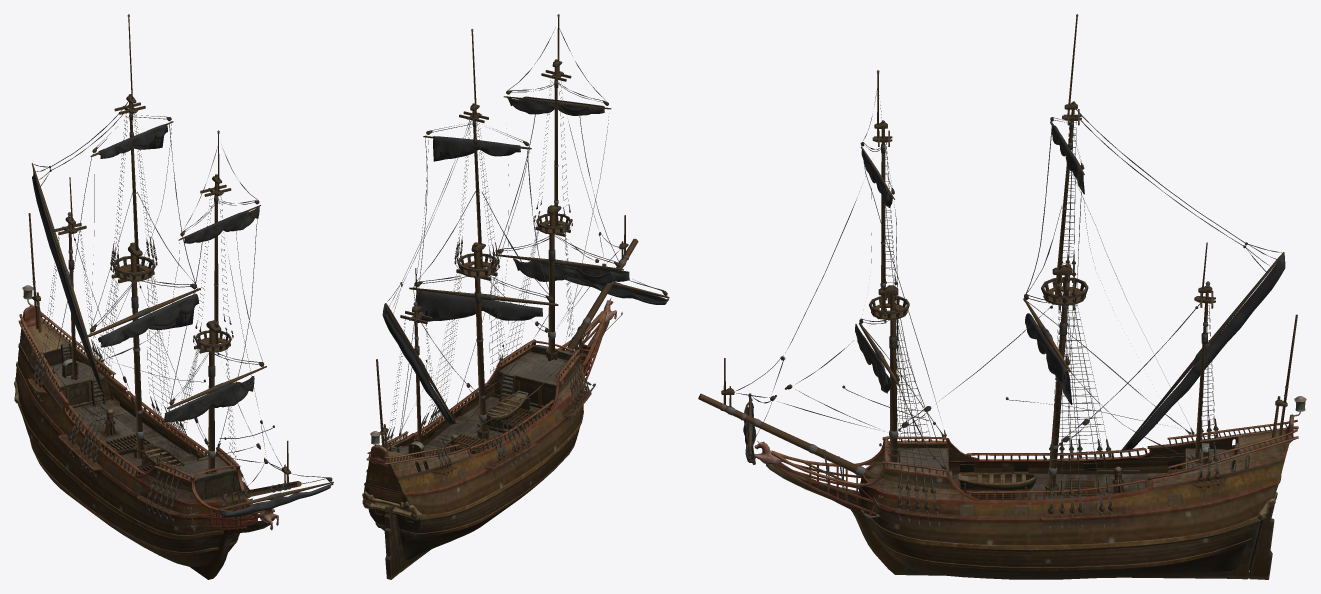
Rendered from ron_burgundy.glb.
3 renders of one model, left to right at view 1: azimuth 30°, elevation 25°; view 2: azimuth 150°, elevation 25°; view 3: azimuth 270°, elevation 25°, orthographic. The views are drawn at different scales.
Visible parts, largest first — view 1: DK_RonBurgundy_Hull, DK_RonBurgundy_Rigging, RonBurgundy_Sails_Docked, DK_RonBurgundy_Rigging_B; view 2: DK_RonBurgundy_Hull, DK_RonBurgundy_Rigging, RonBurgundy_Sails_Docked, DK_RonBurgundy_Rigging_B; view 3: DK_RonBurgundy_Hull, DK_RonBurgundy_Rigging, DK_RonBurgundy_Rigging_B, RonBurgundy_Sails_Docked.
Boxes of the visible parts, x1=… form: DK_RonBurgundy_Hull: x1=14, y1=285, x2=278, y2=579; DK_RonBurgundy_Rigging: x1=28, y1=14, x2=333, y2=531; RonBurgundy_Sails_Docked: x1=98, y1=124, x2=259, y2=422; DK_RonBurgundy_Rigging_B: x1=32, y1=169, x2=332, y2=517; DK_RonBurgundy_Hull: x1=362, y1=297, x2=616, y2=579; DK_RonBurgundy_Rigging: x1=376, y1=14, x2=669, y2=482; RonBurgundy_Sails_Docked: x1=415, y1=96, x2=629, y2=322; DK_RonBurgundy_Rigging_B: x1=382, y1=275, x2=667, y2=424; DK_RonBurgundy_Hull: x1=752, y1=396, x2=1306, y2=579; DK_RonBurgundy_Rigging: x1=698, y1=14, x2=1297, y2=529; DK_RonBurgundy_Rigging_B: x1=743, y1=253, x2=1285, y2=462; RonBurgundy_Sails_Docked: x1=855, y1=125, x2=1084, y2=404.
Size of the model in its own units: 6.81 by 24.66 by 24.07.
Materials: 4 (4 with a texture image).
